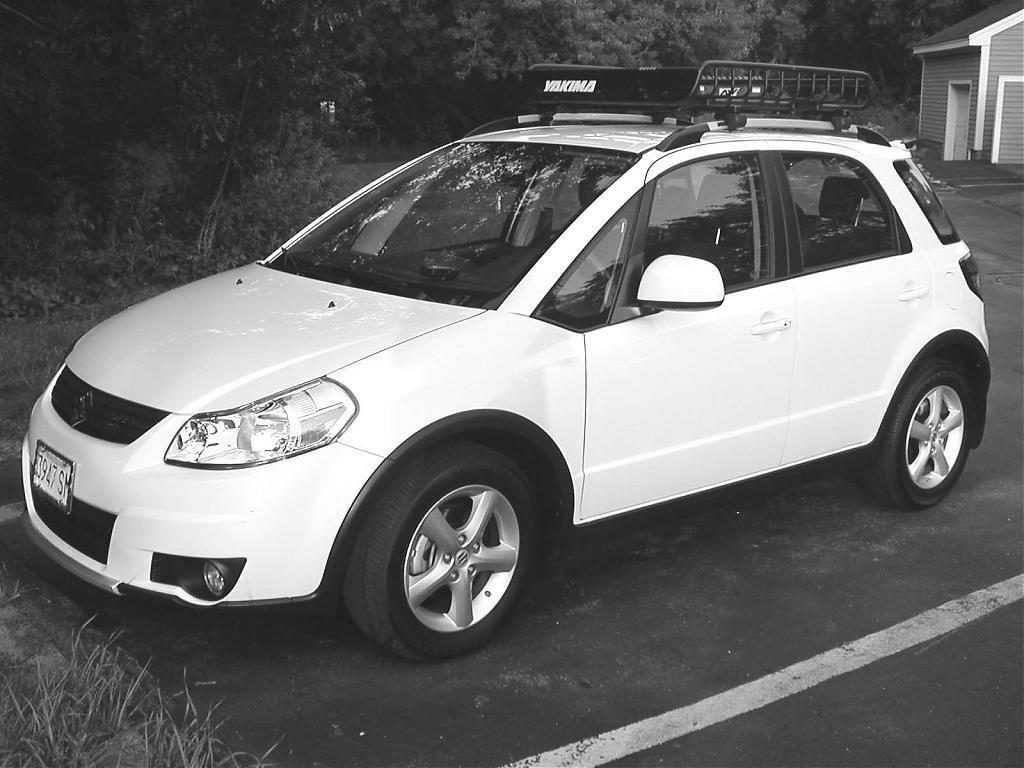car: (20, 53, 992, 667)
